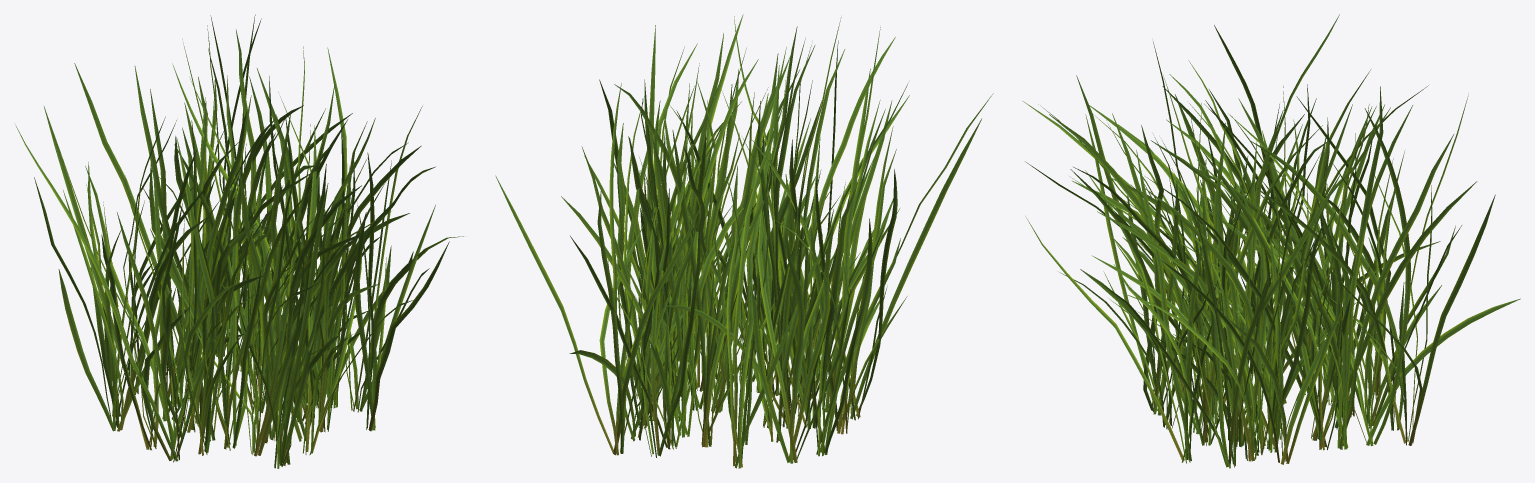
File: grass2.glb
3 views of the same model, side by side, from view 1: azimuth 30°, elevation 25°; view 2: azimuth 150°, elevation 25°; view 3: azimuth 270°, elevation 25° (orthographic).
Visible parts, largest first — view 1: Wild Grass Patch 2; view 2: Wild Grass Patch 2; view 3: Wild Grass Patch 2.
Boxes of the visible parts, x1,y1,x2,y2 form: Wild Grass Patch 2: [15, 14, 463, 468]; Wild Grass Patch 2: [495, 14, 993, 468]; Wild Grass Patch 2: [1023, 14, 1520, 468].
Size of the model in its own units: 0.9272 by 0.9029 by 1.18.
2 materials, 2 textured.
